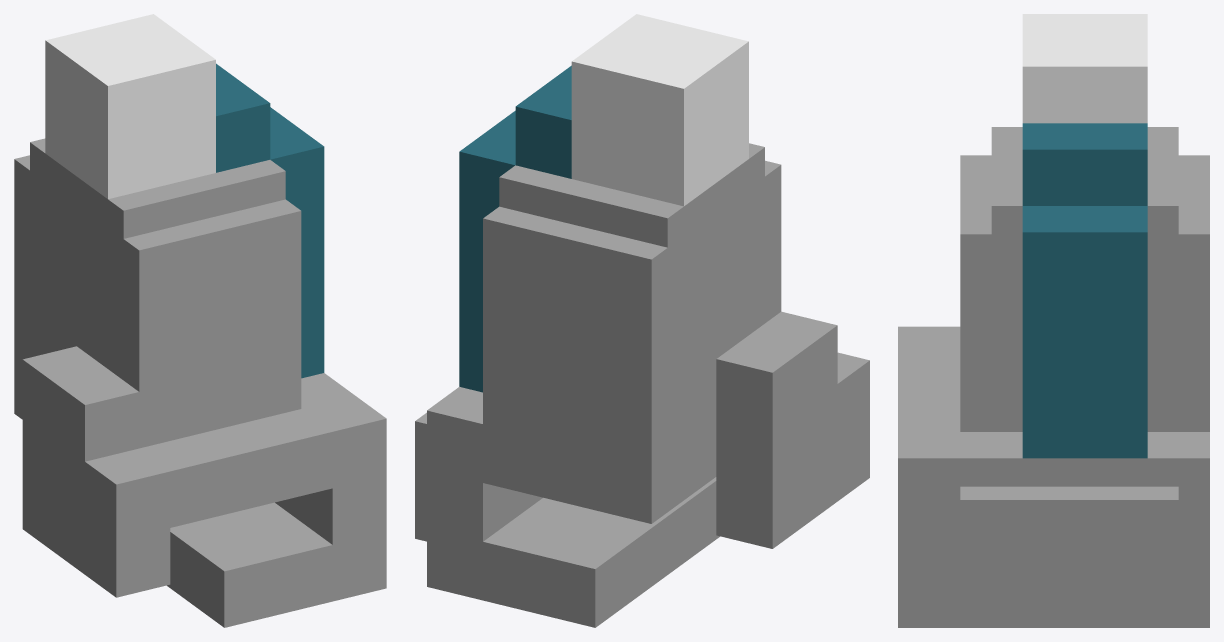
File: PlayerOrange-10-Player_LHand.obj
3 renders of one model, left to right at view 1: azimuth 30°, elevation 25°; view 2: azimuth 150°, elevation 25°; view 3: azimuth 270°, elevation 25°, orthographic. The views are drawn at different scales.
Parts seen in each view (by area): view 1: Player_LHand; view 2: Player_LHand; view 3: Player_LHand.
Part boxes in pixels (x1=…): Player_LHand: x1=14, y1=14, x2=386, y2=627; Player_LHand: x1=415, y1=14, x2=869, y2=627; Player_LHand: x1=898, y1=14, x2=1209, y2=627.
Size of the model in its own units: 1.1 by 1.8 by 1.
1 material, 1 textured.
